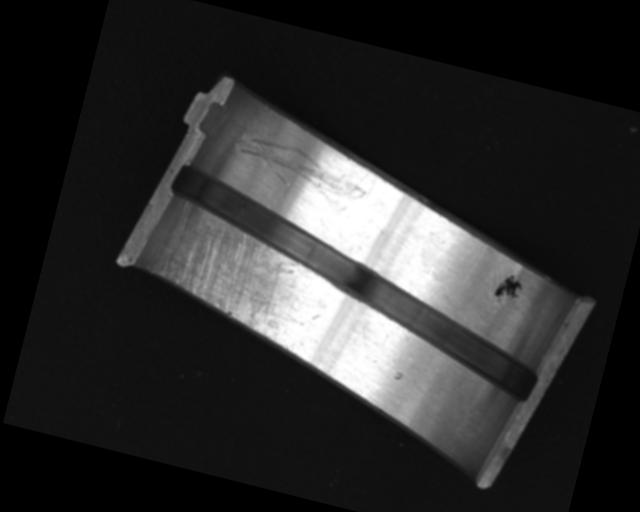blot: (492, 271, 526, 308)
bruise: (392, 368, 405, 382)
gap: (139, 163, 571, 406)
nick: (228, 130, 375, 215)
scratch: (140, 196, 328, 354)
